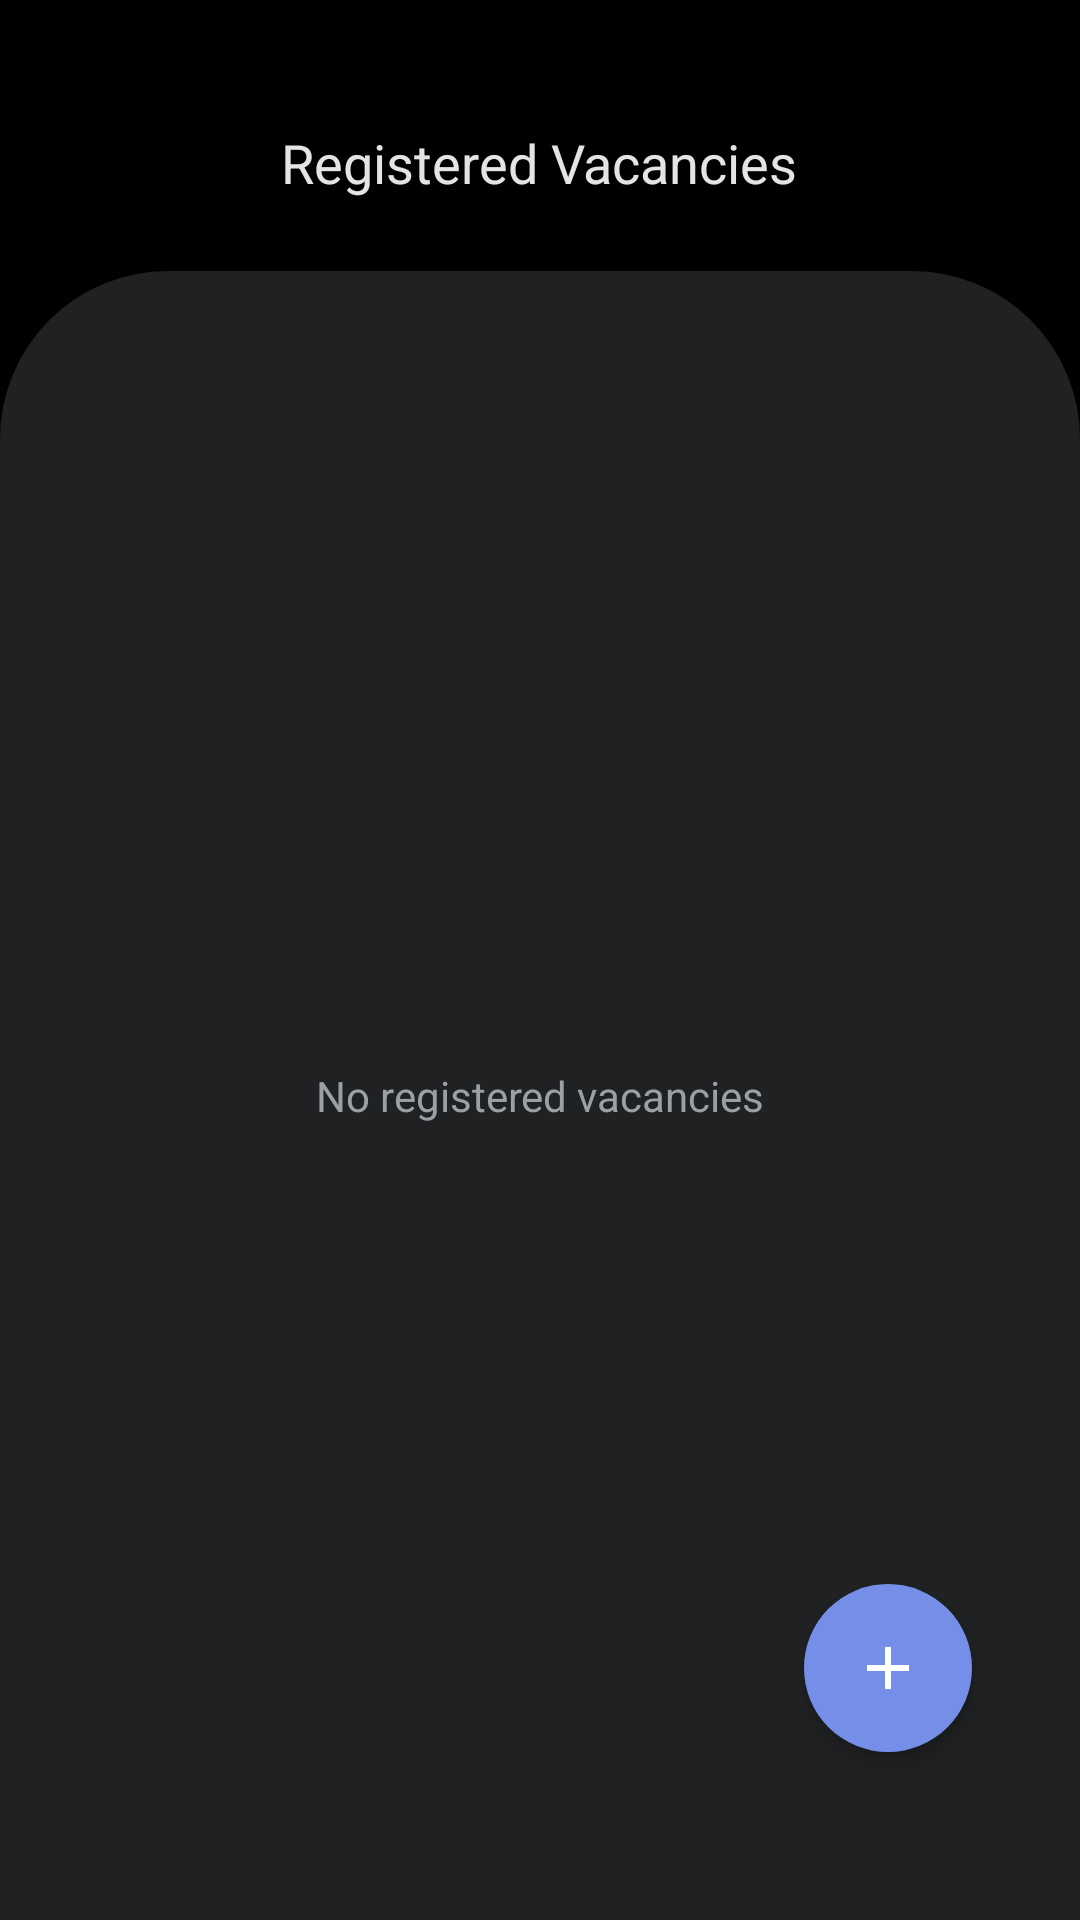

Screen size 1080px×1920px. Icon name, then its center in pixels as (x=x, y=y):
add: (x=888, y=1668)
